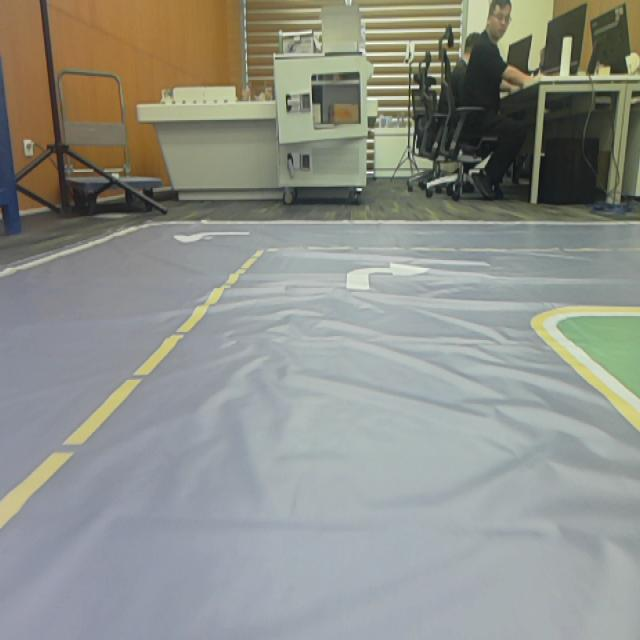left_lane: (0, 253, 258, 531)
right_lane: (530, 325, 640, 435)
